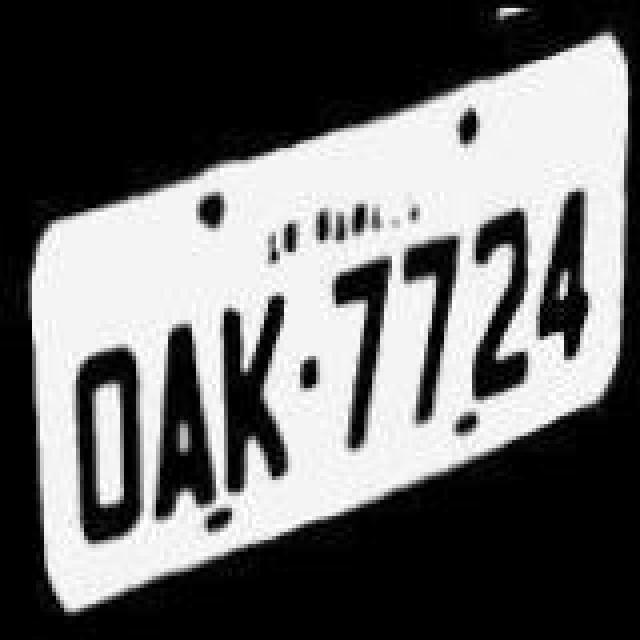2: (468, 194, 540, 402)
4: (532, 182, 604, 366)
7: (328, 248, 400, 464), (398, 230, 466, 434)
A: (148, 314, 224, 526)
K: (216, 286, 300, 494)
O: (60, 340, 152, 552)
